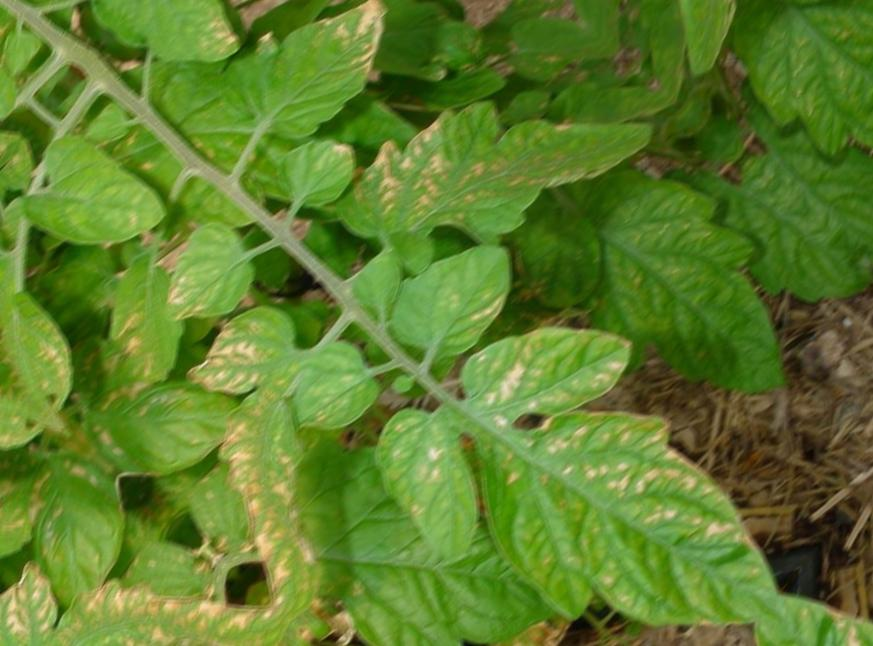Tomato leaf bacterial spot: (84, 250, 464, 628), (409, 310, 832, 646), (302, 0, 661, 372), (428, 248, 661, 484), (179, 0, 457, 193), (0, 115, 192, 320), (84, 0, 307, 155), (367, 211, 548, 397), (343, 387, 526, 565), (136, 185, 292, 346), (251, 107, 378, 236)
